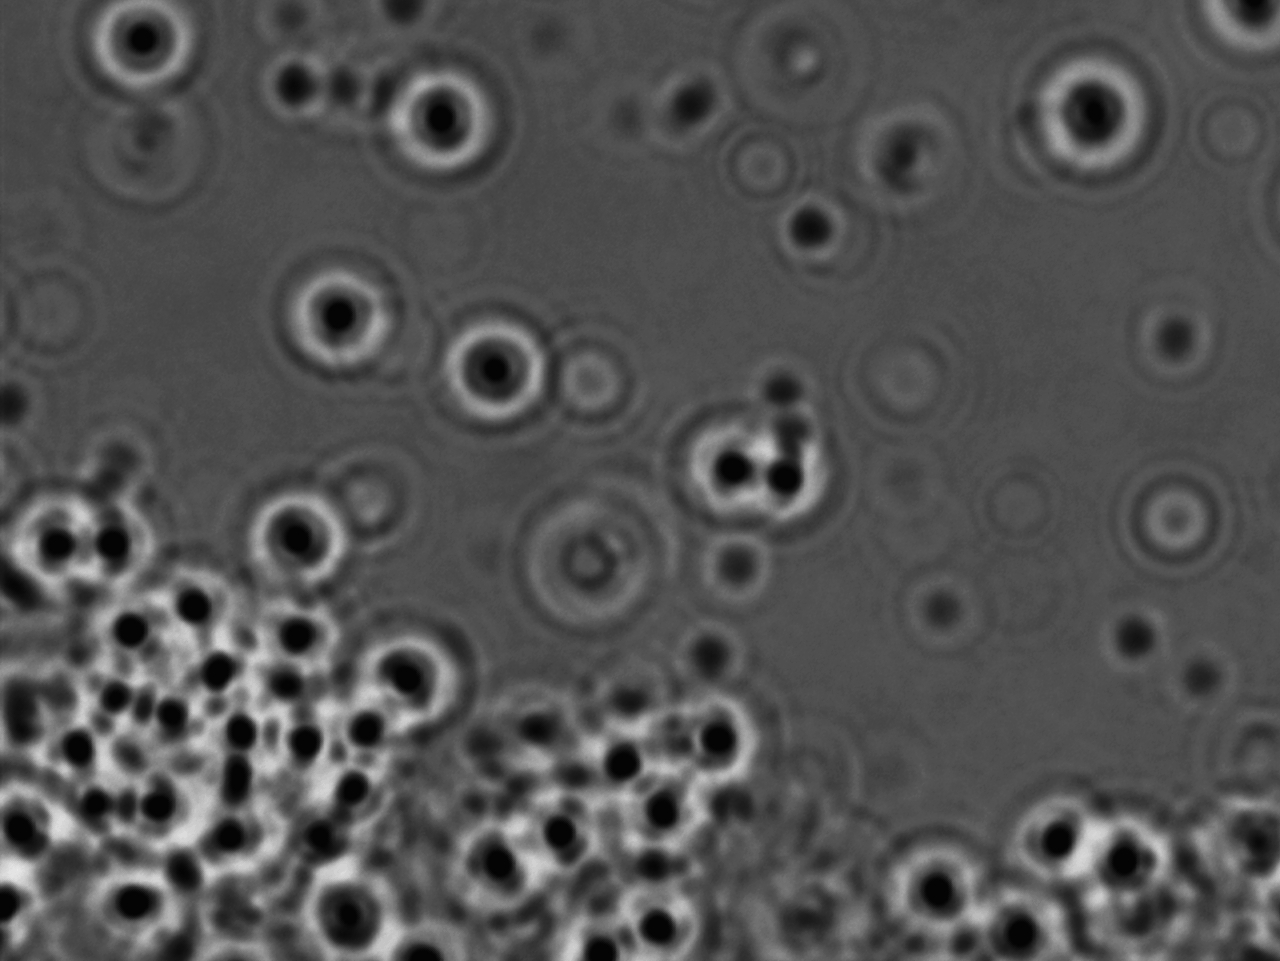depth:-24: (1026, 40, 1168, 189), (418, 303, 562, 446), (219, 467, 371, 603), (348, 597, 479, 751), (271, 247, 409, 386), (376, 60, 512, 196), (865, 826, 996, 943)
